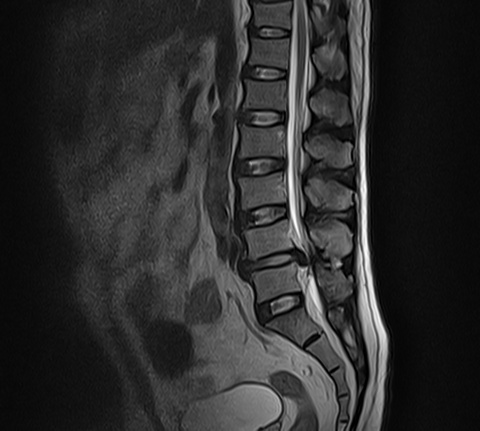L1,v2: (241, 82, 293, 111)
L1-L2,v1: (236, 104, 288, 133)
L2,v2: (234, 127, 286, 156)
L2-L3,v1: (235, 151, 287, 180)
L3,v2: (235, 175, 287, 204)
L3-L4,v1: (239, 200, 291, 229)
L4,v2: (242, 225, 294, 254)
L4-L5,v4: (246, 245, 298, 274)
L5,v2: (250, 268, 302, 297)
L5-S1,v1: (255, 289, 307, 318)
T12-L1,v1: (243, 58, 295, 87)
